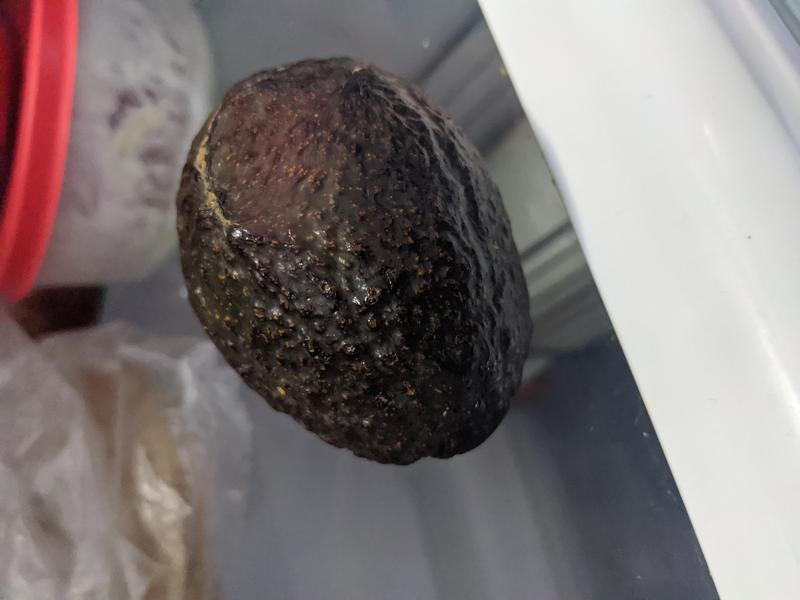avocado: (175, 56, 534, 464)
